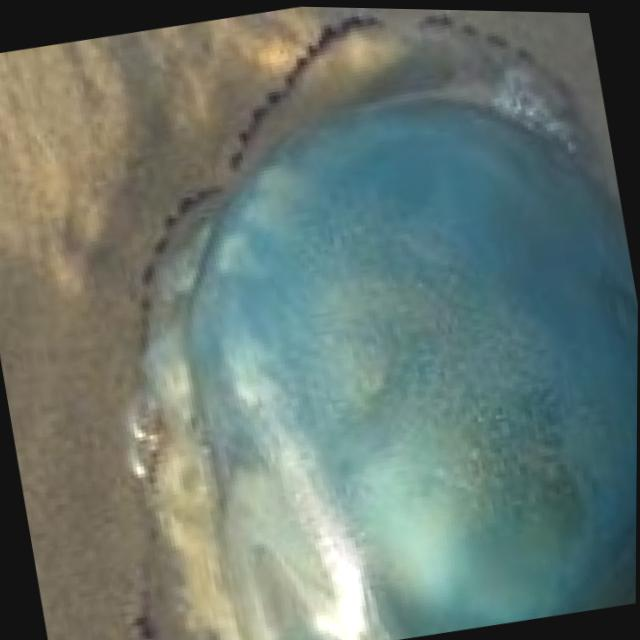Box-jellyfish: (29, 1, 640, 640)
